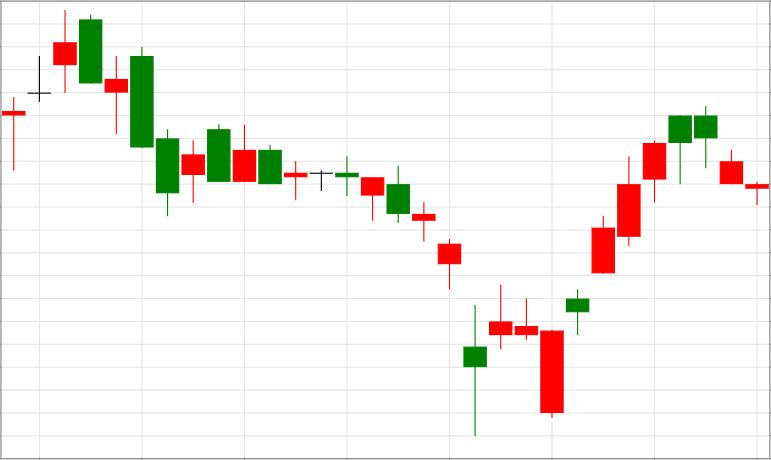hanging_man_fall: (541, 116, 692, 419)
